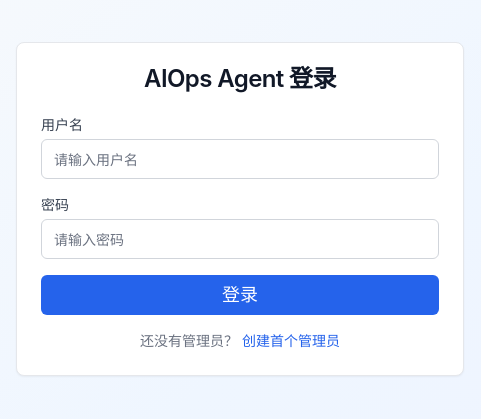
it: Login Form Validation Tests › Error Handling › should handle network errors
The image size is (481, 419).
Type "admin" into the field with placeholder "请输入用户名" at (240, 159), box 41,139 -> 439,179
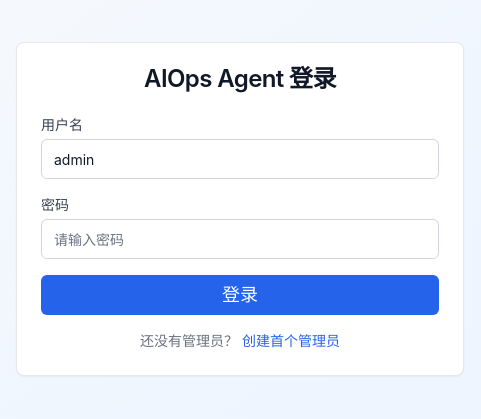
Type "password" into the password field with placeholder "请输入密码" at (240, 239), box 41,219 -> 439,259
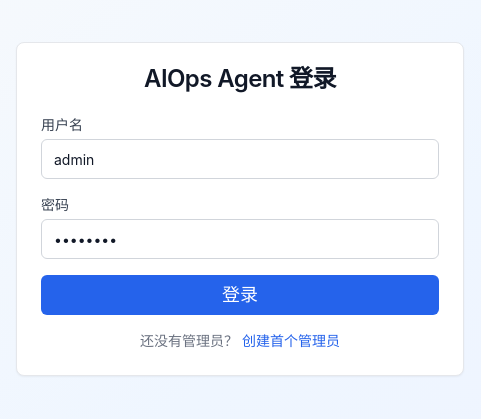
Click the button "登录" at (240, 295), box 41,275 -> 439,315
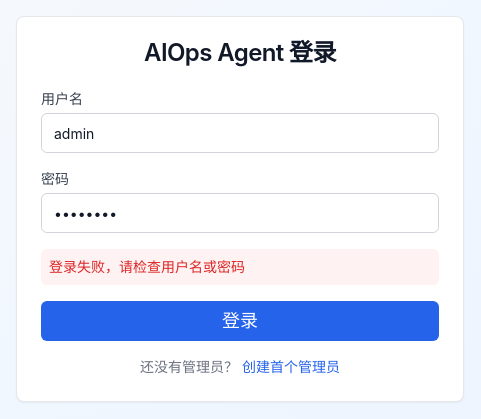
expect the text "登录失败，请检查用户名或密码" is shown: met, box 41,249 -> 439,285
